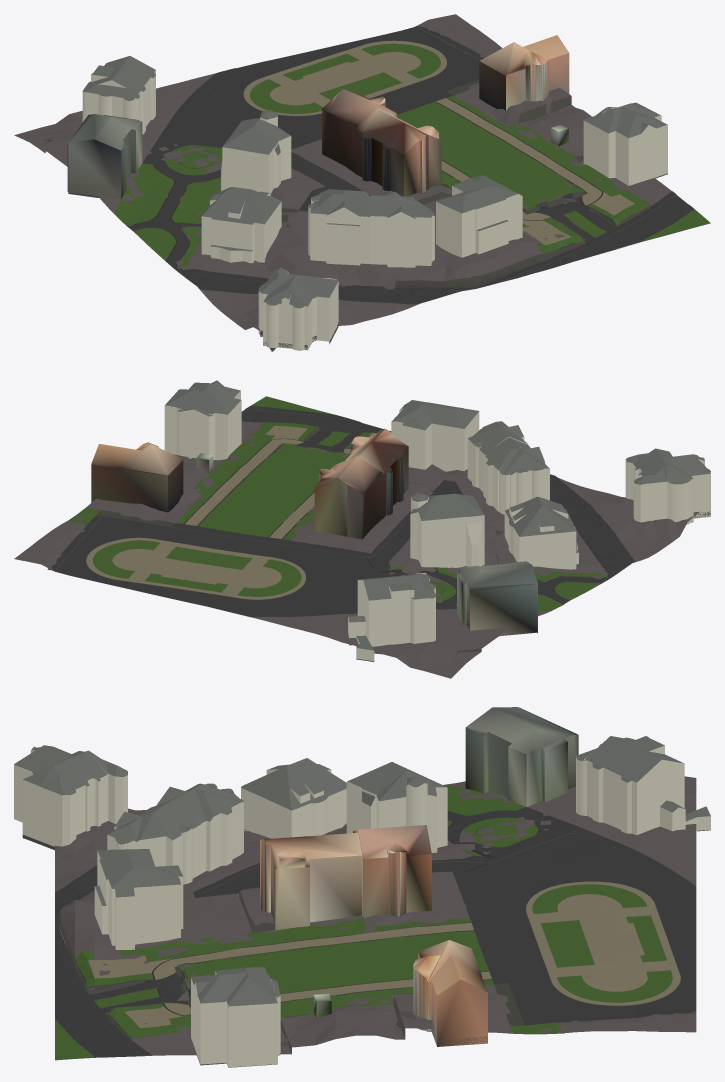
The picture shows the model from 3 angles, top to bottom: view 1: azimuth 30°, elevation 25°; view 2: azimuth 150°, elevation 25°; view 3: azimuth 270°, elevation 25°; orthographic projection. The views are drawn at different scales.
Parts seen in each view (by area): view 1: c_m07_p11; view 2: c_m07_p11; view 3: c_m07_p11.
Boxes of the visible parts, <box> form: c_m07_p11: <box>14,14,710,351</box>; c_m07_p11: <box>14,380,710,678</box>; c_m07_p11: <box>14,707,710,1067</box>.
Bounding box in the file's own units: 139 × 26.7 × 139.
